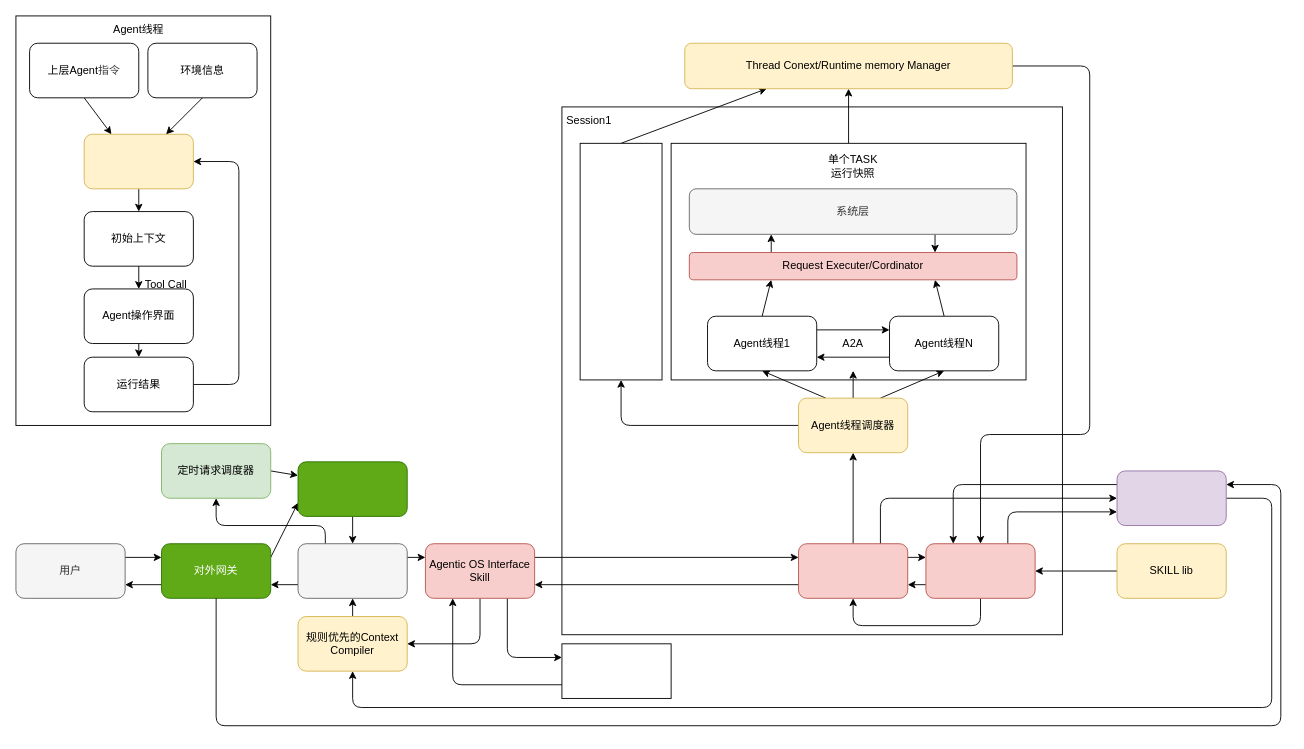
The diagram is 1304 pixels wide and 749 high, and some of its shapes have lost their labels. Each missing label, with the centre of its shape:
Atomic Runtime Context Builder: pixel 138 161
Memory Base: pixel 1171 498
Prime Personality: pixel 352 570
Process N: pixel 620 261
Session N: pixel 616 670
Sesssion Host1: pixel 853 570
请求 管理器: pixel 352 488
进程ContextCompiler: pixel 980 570
